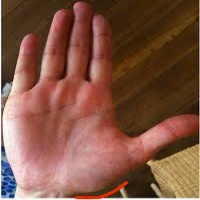ring: (40, 7, 70, 91)
